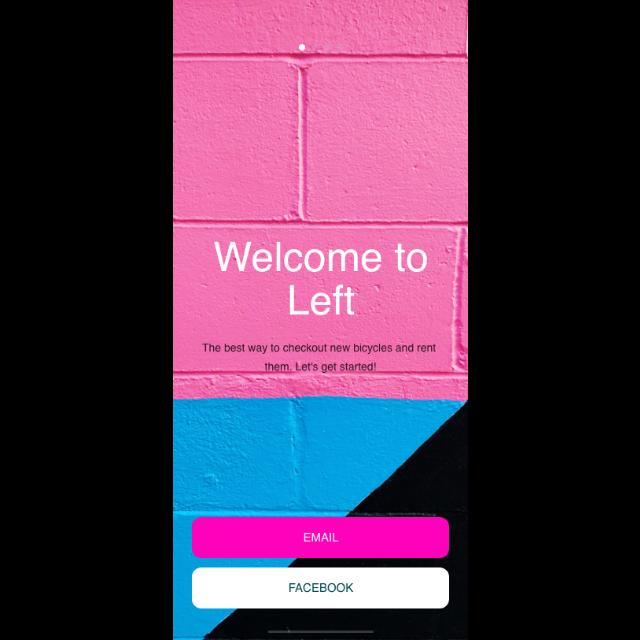backgroundimage: (173, 1, 467, 640)
text: (214, 242, 426, 316), (202, 343, 436, 373)
textbutton: (192, 518, 448, 558), (192, 568, 448, 608)
